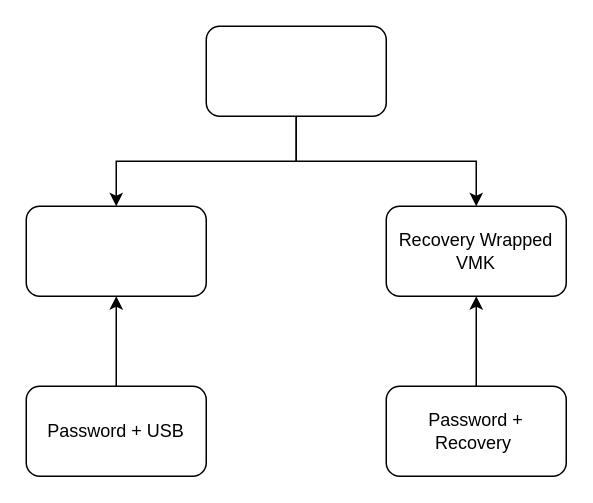
Image size: 593x503. Some labels were removed from this diagram. The shapes that lost their labels are listed below. From the top down, each one's box as (x1, y1, x2, y2) in pixels, then its label:
(205, 25, 386, 116): VMK
(25, 205, 206, 296): Normal Wrapped VMK
